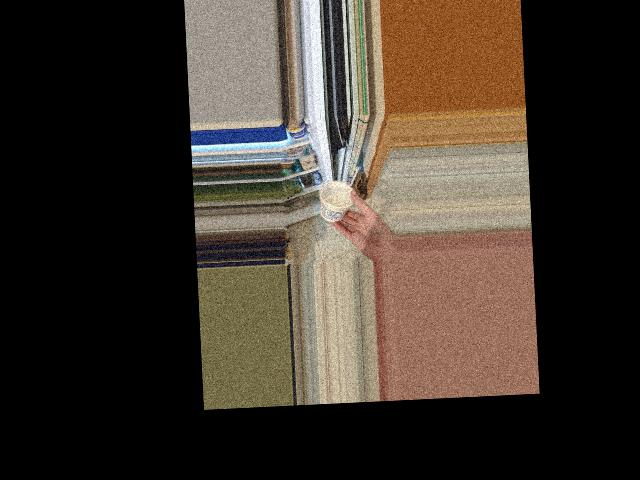cotage: (320, 185, 356, 220)
